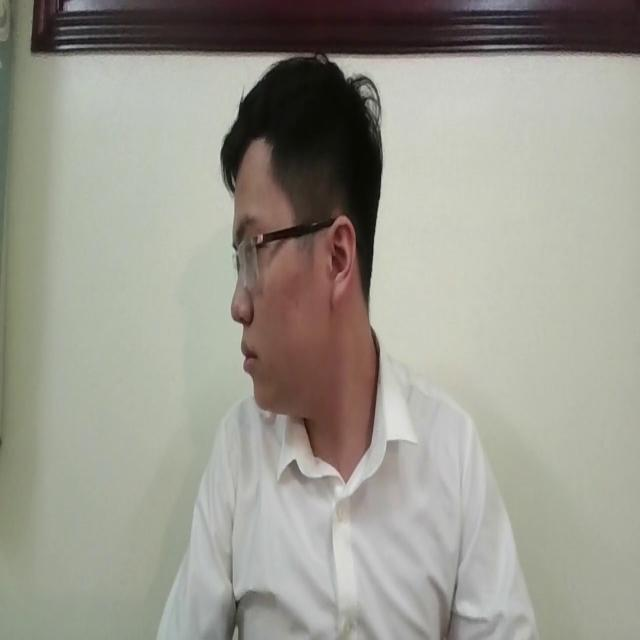student: (141, 50, 539, 640)
